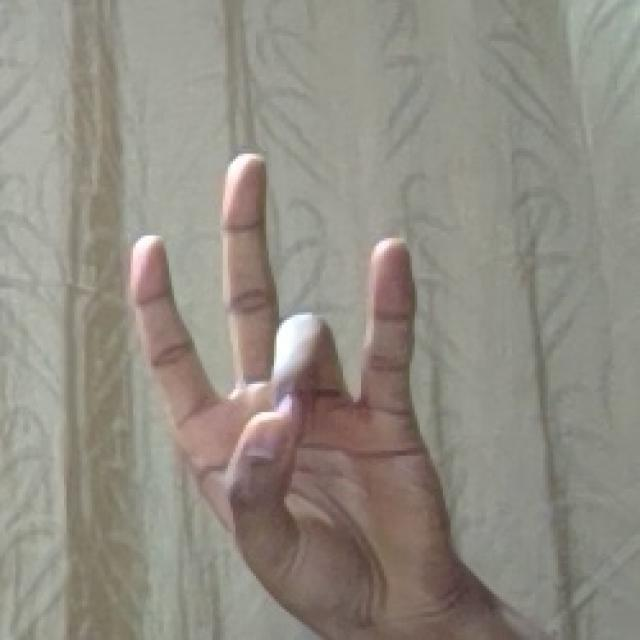Numeric-7: (112, 143, 450, 640)
